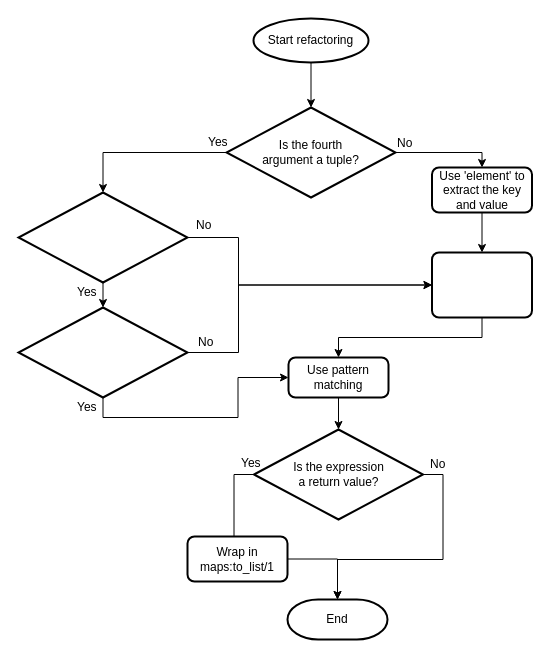
Some shapes in this 550 by 657 pixel diagram are drawn without their labels. The shapes that lost their labels are listed below. From the top down, each one's centre as x and y in pixels, then its label:
pixel 102 237: Are the keys in the first and fourth argument simple?
pixel 481 284: Use maps:remove/2 to remove the first key
pixel 102 352: Are they the same key?
